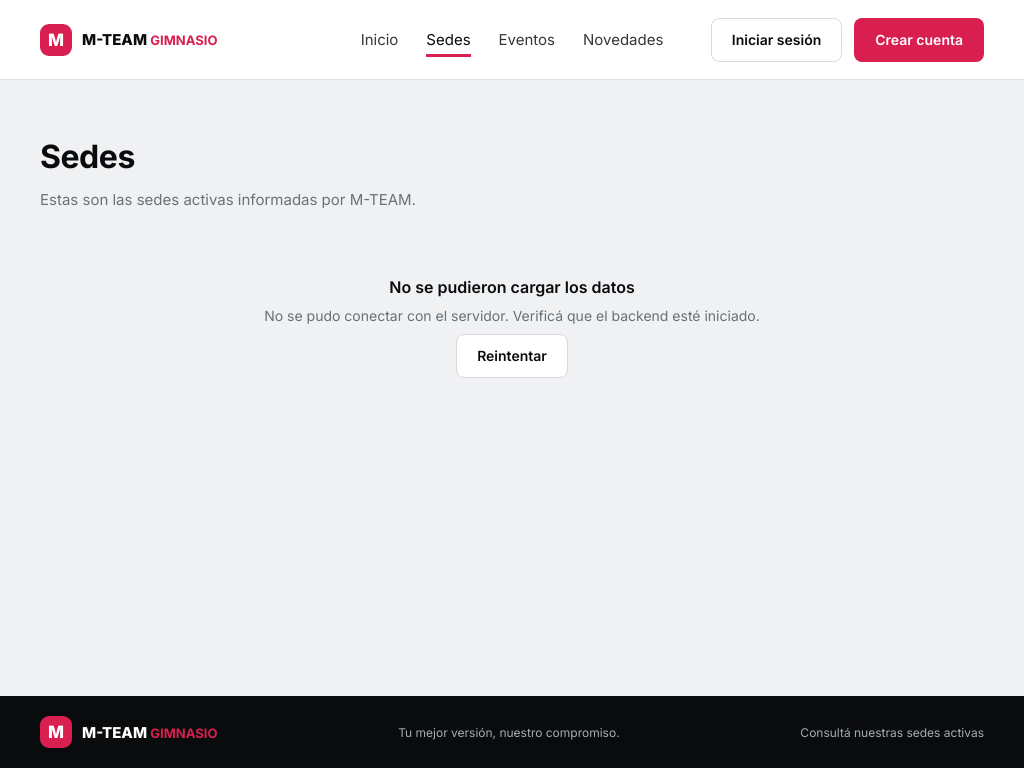
Test: sitio público conectado al backend › muestra el error de red y permite reintentar
Expected: the text "No se pudo conectar con el servidor" is shown, left=264, top=307, right=760, bottom=324
Click the button "Reintentar": point(512, 356) left=456, top=334, right=568, bottom=378
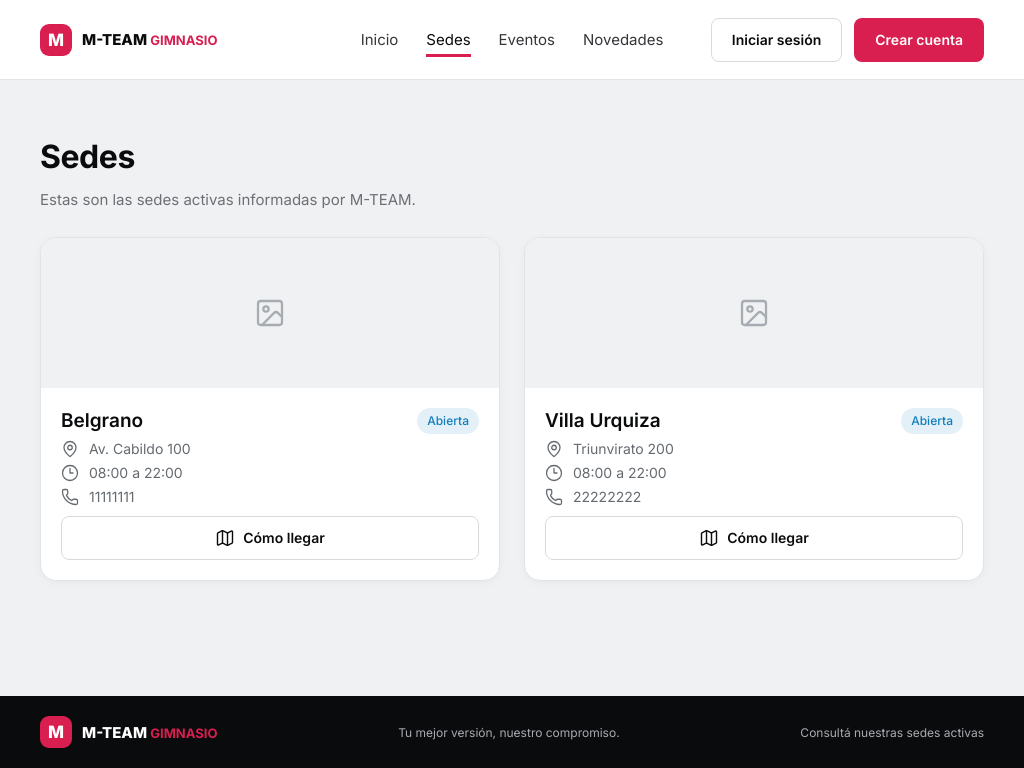
Expected: the link "Belgrano" is shown, left=61, top=409, right=143, bottom=432
